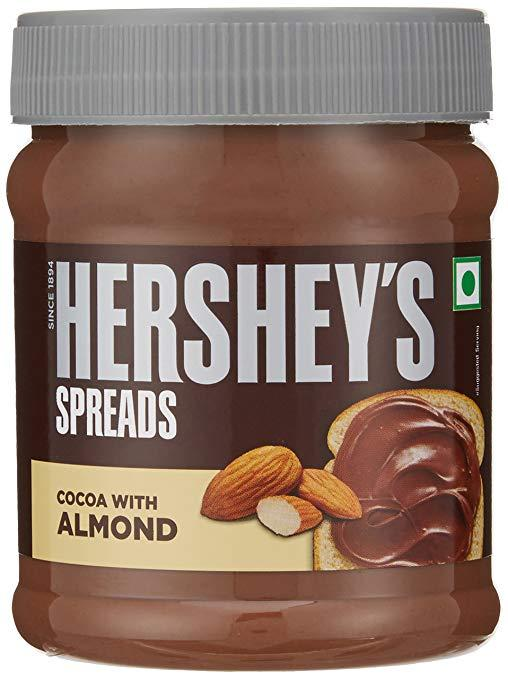Hershey-s: (9, 11, 496, 669)
